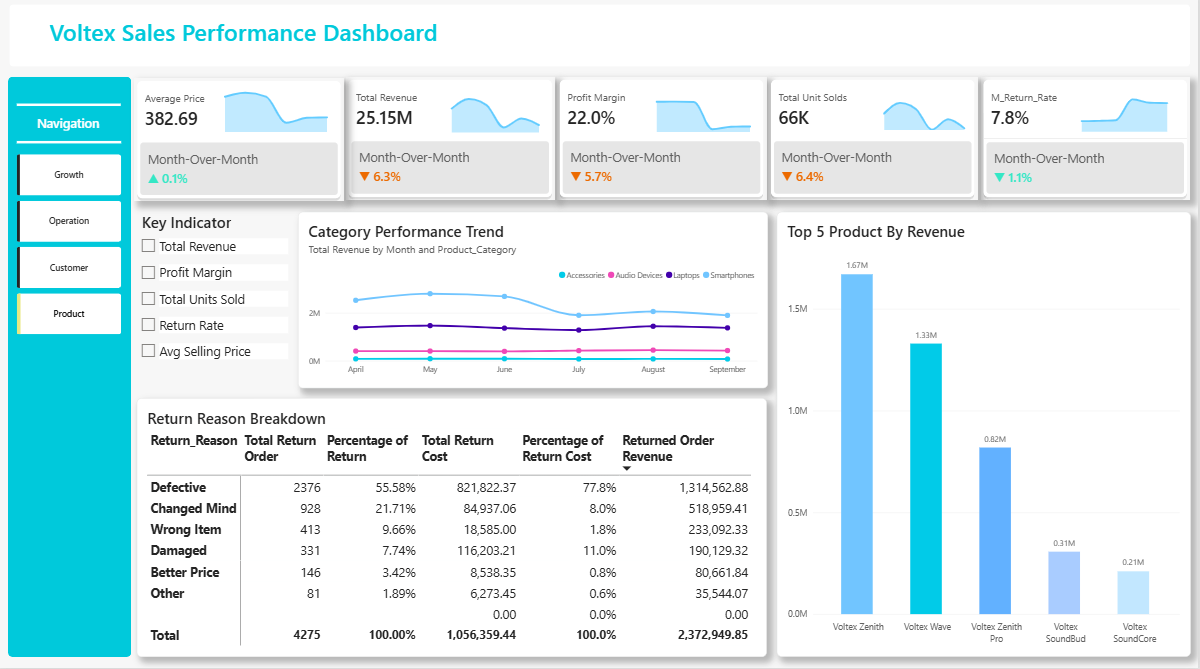

The dashboard page shown, as its layout file describes it:
{"tool":"powerbi","page":{"name":"Product","canvas":[1920,1080],"ordinal":3},"visuals":[{"type":"shape","box":[15.7,134.7,197.1,928.6],"z":0},{"type":"shape","box":[17.9,17.9,1889.7,100],"z":1000},{"type":"pageNavigator","box":[30,258.6,167.1,291.4],"z":2000},{"type":"cardVisual","fields":{"Data":["*Measure.M_Avg_Selling_Price"]},"box":[218.3,136.7,335.9,197.4],"z":3000,"group":"g5"},{"type":"shape","box":[30,158.3,166.7,41.7],"z":3000},{"type":"shape","box":[30,217.1,167.1,41.4],"z":4000},{"type":"cardVisual","fields":{"Data":["*Measure.M_Total_Revenue"]},"box":[555.4,134.7,335.9,197.4],"z":5000,"group":"g1"},{"type":"actionButton","title":"Navigation","box":[40,194.3,144.3,40],"z":5000},{"type":"actionButton","box":[0,5.7,715.7,112.9],"z":6000},{"type":"cardVisual","fields":{"Data":["*Measure.M_Profit_Margin"]},"box":[894.2,134.7,335.9,197.4],"z":6000,"group":"g2"},{"type":"group","id":"g1","title":"Group 3","box":[555.4,134.7,335.9,197.4],"z":7000},{"type":"cardVisual","fields":{"Data":["*Measure.M_Total_Units_Sold"]},"box":[1233,134.7,335.9,197.4],"z":7000,"group":"g3"},{"type":"group","id":"g2","title":"Group 4","box":[894.2,134.7,335.9,197.4],"z":8000},{"type":"cardVisual","fields":{"Data":["*Measure.M_Return_Rate"]},"box":[1571.8,134.7,335.9,197.4],"z":8000,"group":"g4"},{"type":"group","id":"g3","title":"Group 5","box":[1233,134.7,335.9,197.4],"z":9000},{"type":"group","id":"g4","title":"Group 6","box":[1571.8,134.7,335.9,197.4],"z":10000},{"type":"group","id":"g5","title":"Group 2","box":[218.3,136.7,336.7,198.3],"z":11000},{"type":"lineChart","fields":{"Category":["dim_calendar.Date.Variation.Date Hierarchy.Month"],"Y":["*Measure.M_Avg_Selling_Price"]},"box":[333.3,128.3,221.7,110],"z":12000},{"type":"stackedAreaChart","fields":{"Category":["dim_calender.StartOfMonth.Variation.Date Hierarchy.Year","dim_calender.StartOfMonth.Variation.Date Hierarchy.Quarter","dim_calender.StartOfMonth.Variation.Date Hierarchy.Month","dim_calender.StartOfMonth.Variation.Date Hierarchy.Day"],"Y":["*Measure.M_Total_Revenue"]},"box":[700,135,191.7,103.3],"z":13000},{"type":"stackedAreaChart","fields":{"Category":["dim_calender.StartOfMonth.Variation.Date Hierarchy.Year","dim_calender.StartOfMonth.Variation.Date Hierarchy.Quarter","dim_calender.StartOfMonth.Variation.Date Hierarchy.Month","dim_calender.StartOfMonth.Variation.Date Hierarchy.Day"],"Y":["*Measure.M_Profit_Margin"]},"box":[1028.8,135,201.2,102.5],"z":14000},{"type":"stackedAreaChart","fields":{"Category":["dim_calender.StartOfMonth.Variation.Date Hierarchy.Year","dim_calender.StartOfMonth.Variation.Date Hierarchy.Quarter","dim_calender.StartOfMonth.Variation.Date Hierarchy.Month","dim_calender.StartOfMonth.Variation.Date Hierarchy.Day"],"Y":["*Measure.M_Total_Units_Sold"]},"box":[1391.7,131.7,180,103.3],"z":15000},{"type":"stackedAreaChart","fields":{"Category":["dim_calender.StartOfMonth.Variation.Date Hierarchy.Year","dim_calender.StartOfMonth.Variation.Date Hierarchy.Quarter","dim_calender.StartOfMonth.Variation.Date Hierarchy.Month","dim_calender.StartOfMonth.Variation.Date Hierarchy.Day"],"Y":["*Measure.M_Return_Rate"]},"box":[1708.8,135,188.8,102.5],"z":16000},{"type":"slicer","fields":{"Values":["Parameter 2.Parameter"]},"box":[222.5,350,242.5,297.5],"z":17000},{"type":"lineChart","title":"Category Performance Trend","fields":{"Category":["dim_calendar.Date.Variation.Date Hierarchy.Month"],"Series":["dim_product.Product_Category"],"Y":["*Measure.M_Total_Revenue"]},"box":[480,350,752,282],"z":18000},{"type":"pivotTable","title":"Return Reason Breakdown","fields":{"Rows":["dim_return.Return_Reason"],"Values":["*Measure.M_Return_Order","Divide(*Measure.M_Return_Order, ScopedEval(*Measure.M_Return_Order, []))","*Measure.M_Return_Cost","*Measure.M_Pct_Return_Cost_By_Reason","*Measure.M_Returned_Orders_Revenue"]},"box":[222,648,1008,414],"z":19000},{"type":"clusteredColumnChart","title":"Top 5 Product By Revenue","fields":{"Category":["dim_product.Product_Name"],"Y":["*Measure.M_Total_Revenue"]},"box":[1246,350,662,712],"z":20000}]}

Visuals, with their boxes in screenshot pixels (x1, y1, x2, y2), scaled from the page's 1920x1080 canvas onto the 1200x669 screenshot:
shape: BBox(10, 83, 133, 659)
shape: BBox(11, 11, 1192, 73)
pageNavigator: BBox(19, 160, 123, 341)
cardVisual - *Measure.M_Avg_Selling_Price: BBox(136, 85, 346, 207)
shape: BBox(19, 98, 123, 124)
shape: BBox(19, 134, 123, 160)
cardVisual - *Measure.M_Total_Revenue: BBox(347, 83, 557, 206)
"Navigation" actionButton: BBox(25, 120, 115, 145)
actionButton: BBox(0, 4, 447, 73)
cardVisual - *Measure.M_Profit_Margin: BBox(559, 83, 769, 206)
"Group 3" group: BBox(347, 83, 557, 206)
cardVisual - *Measure.M_Total_Units_Sold: BBox(771, 83, 981, 206)
"Group 4" group: BBox(559, 83, 769, 206)
cardVisual - *Measure.M_Return_Rate: BBox(982, 83, 1192, 206)
"Group 5" group: BBox(771, 83, 981, 206)
"Group 6" group: BBox(982, 83, 1192, 206)
"Group 2" group: BBox(136, 85, 347, 208)
lineChart - dim_calendar.Date.Variation.Date Hierarchy.Month x *Measure.M_Avg_Selling_Price: BBox(208, 79, 347, 148)
stackedAreaChart - dim_calender.StartOfMonth.Variation.Date Hierarchy.Year x dim_calender.StartOfMonth.Variation.Date Hierarchy.Quarter: BBox(438, 84, 557, 148)
stackedAreaChart - dim_calender.StartOfMonth.Variation.Date Hierarchy.Year x dim_calender.StartOfMonth.Variation.Date Hierarchy.Quarter: BBox(643, 84, 769, 147)
stackedAreaChart - dim_calender.StartOfMonth.Variation.Date Hierarchy.Year x dim_calender.StartOfMonth.Variation.Date Hierarchy.Quarter: BBox(870, 82, 982, 146)
stackedAreaChart - dim_calender.StartOfMonth.Variation.Date Hierarchy.Year x dim_calender.StartOfMonth.Variation.Date Hierarchy.Quarter: BBox(1068, 84, 1186, 147)
slicer - Parameter 2.Parameter: BBox(139, 217, 291, 401)
"Category Performance Trend" lineChart: BBox(300, 217, 770, 391)
"Return Reason Breakdown" pivotTable: BBox(139, 401, 769, 658)
"Top 5 Product By Revenue" clusteredColumnChart: BBox(779, 217, 1192, 658)
